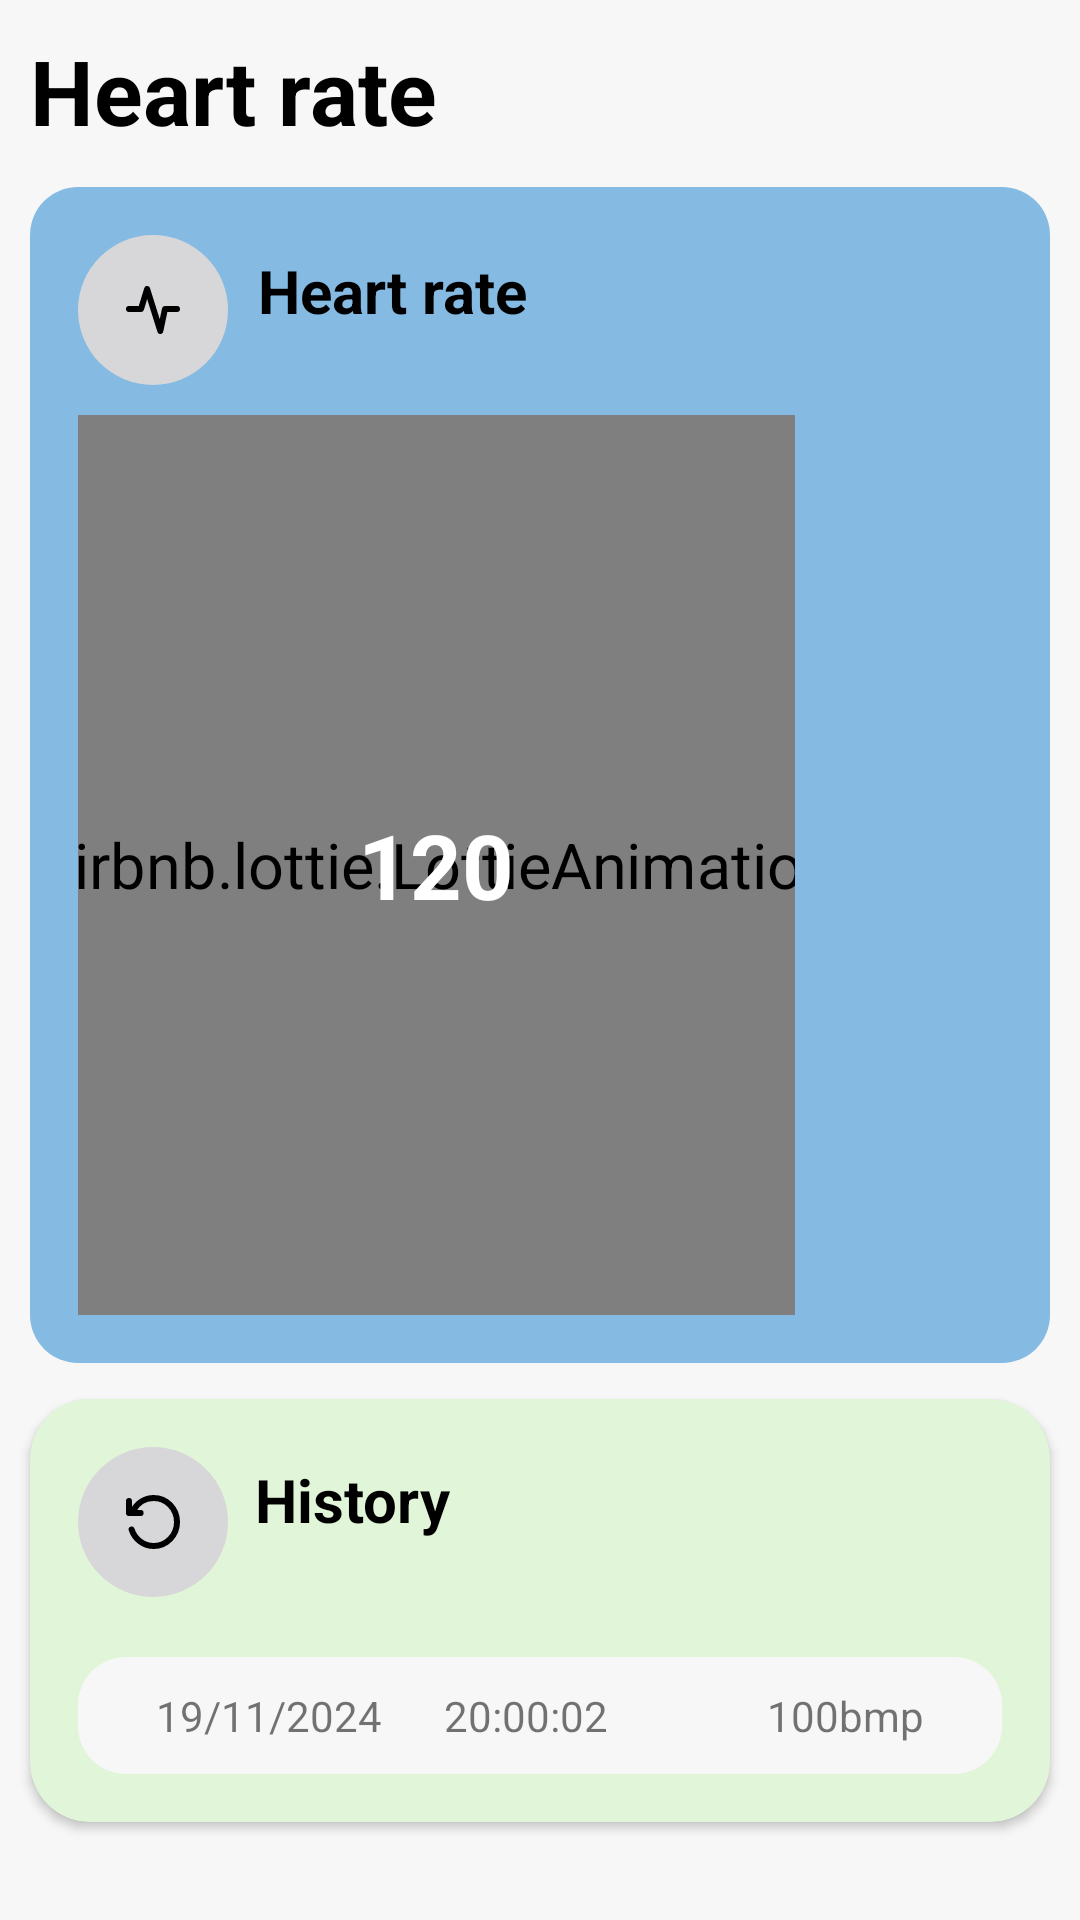

Where icons sit on this 1080 × 1920 app screen, as (x1, y1, x2, y2):
activity: (78, 235, 228, 385)
